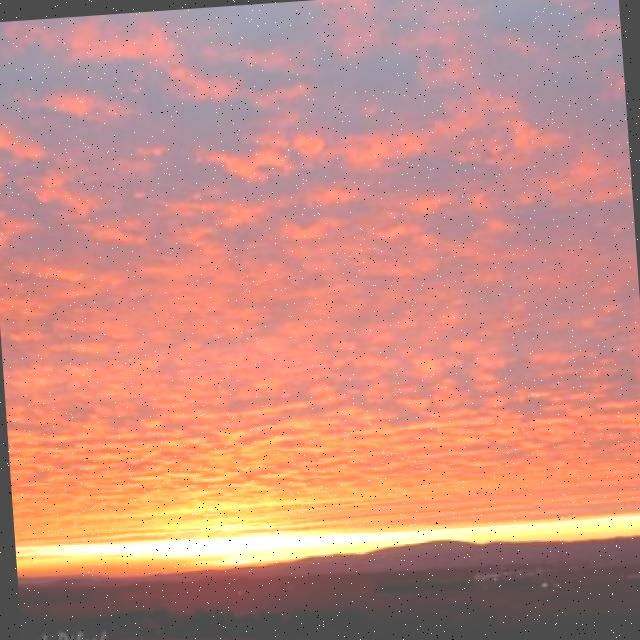Ac: (1, 1, 640, 521)
